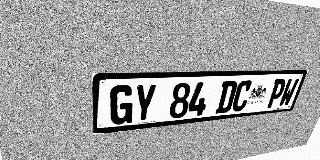4: (187, 82, 211, 117)
8: (168, 82, 193, 119)
C: (230, 80, 254, 112)
D: (215, 81, 238, 114)
G: (109, 85, 134, 125)
P: (265, 79, 288, 108)
W: (277, 78, 300, 107)
Y: (132, 84, 157, 123)
